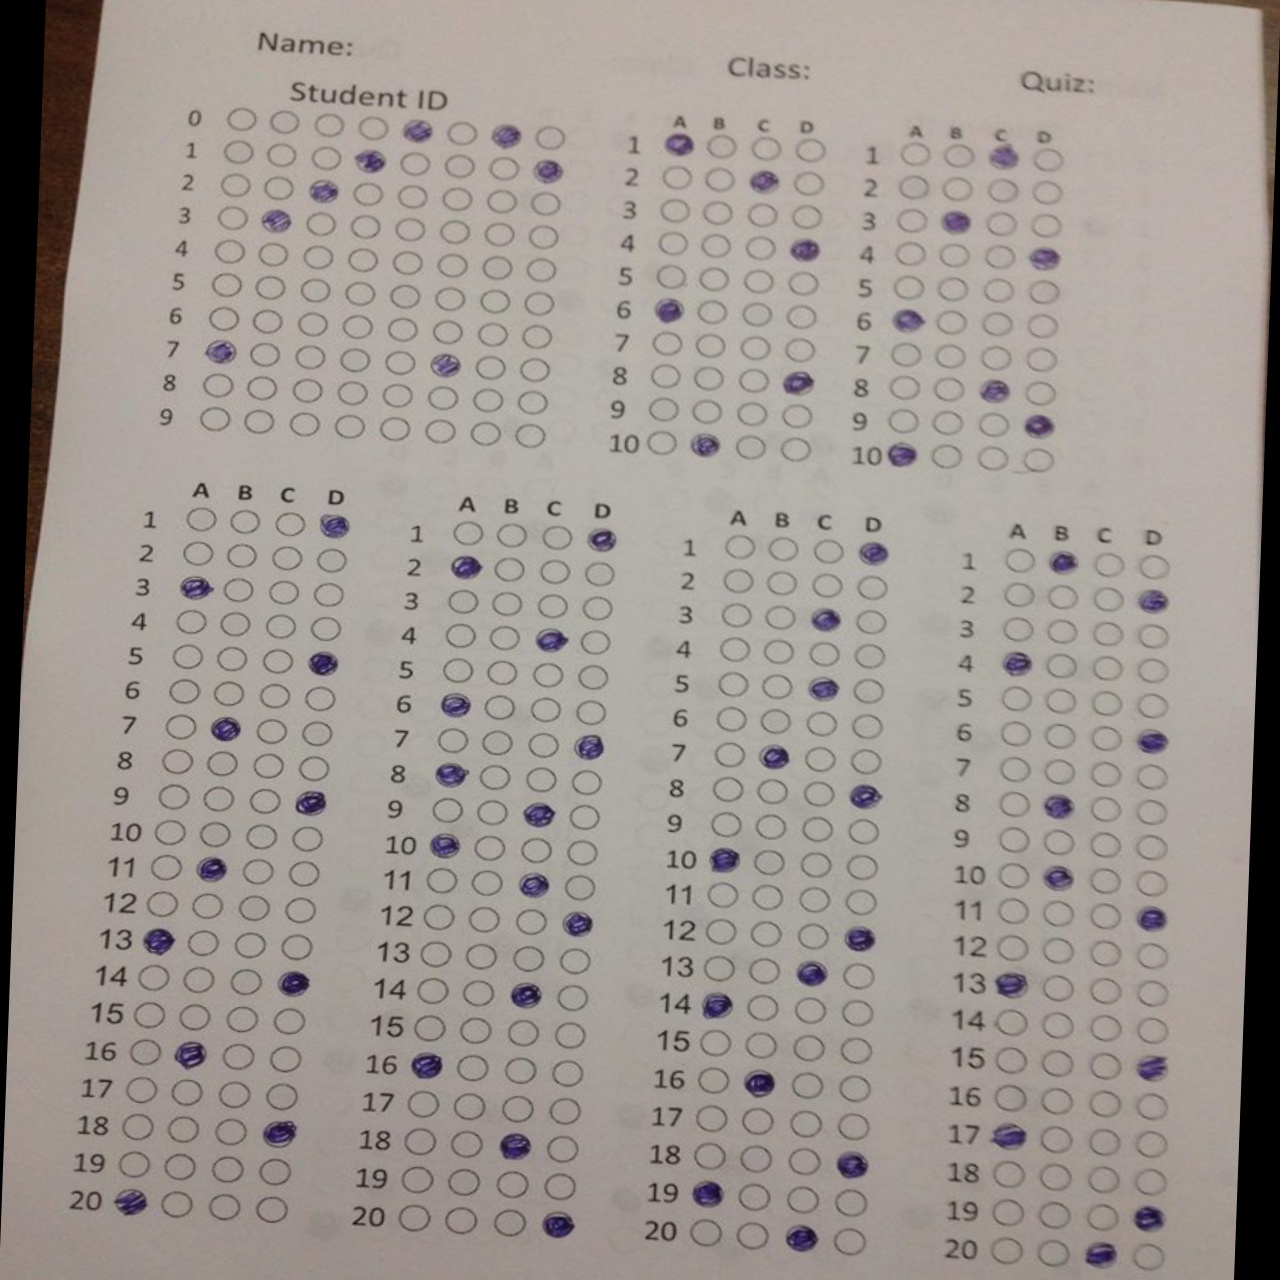not-c: (442, 1164, 485, 1199), (117, 1108, 159, 1143), (454, 1049, 493, 1085), (546, 1092, 587, 1128), (736, 1142, 777, 1177), (132, 960, 175, 994), (499, 1089, 537, 1126), (234, 891, 275, 925), (784, 1144, 825, 1178), (401, 1123, 440, 1158), (544, 1131, 583, 1166), (990, 1156, 1029, 1191), (263, 1080, 302, 1114), (212, 1115, 252, 1149), (501, 1054, 542, 1087), (253, 1192, 291, 1227), (842, 885, 879, 920), (257, 1155, 295, 1189), (442, 1201, 481, 1235), (450, 1090, 489, 1124), (835, 1108, 873, 1142), (179, 964, 219, 996), (270, 1005, 309, 1037), (493, 1167, 533, 1200), (690, 1138, 730, 1171), (1133, 689, 1173, 722), (992, 1006, 1032, 1039), (547, 1056, 588, 1088), (745, 918, 787, 949), (165, 1110, 202, 1145), (411, 1010, 448, 1046), (554, 979, 591, 1014), (130, 998, 168, 1032), (159, 1150, 197, 1184), (422, 862, 459, 896), (535, 588, 572, 622), (697, 1026, 735, 1060), (998, 751, 1035, 785), (527, 692, 566, 724), (753, 810, 791, 843), (1133, 940, 1172, 973), (216, 1077, 256, 1109), (733, 1220, 772, 1252), (716, 633, 756, 665), (749, 847, 790, 878), (415, 973, 450, 1008), (695, 1063, 731, 1097), (701, 951, 737, 985), (702, 914, 738, 948), (709, 772, 745, 806), (183, 926, 220, 959), (542, 1170, 579, 1203), (447, 1126, 484, 1159), (420, 900, 457, 933), (837, 1073, 874, 1105), (797, 849, 835, 881), (809, 570, 846, 602), (1089, 652, 1126, 685), (987, 1235, 1024, 1268), (219, 1041, 258, 1073), (123, 1074, 162, 1105), (166, 1075, 205, 1107), (799, 777, 838, 809), (761, 636, 799, 668), (721, 531, 760, 563), (1133, 654, 1172, 686), (1135, 1015, 1173, 1047), (522, 764, 561, 795), (692, 1103, 731, 1133), (990, 1083, 1030, 1114), (158, 1189, 195, 1221), (400, 1162, 436, 1194), (467, 903, 503, 935), (564, 835, 600, 867), (429, 794, 465, 826), (476, 761, 512, 794), (738, 1104, 775, 1137), (788, 1107, 824, 1139), (754, 774, 790, 806), (758, 704, 795, 737), (1088, 1088, 1124, 1121), (226, 966, 264, 998), (491, 1207, 529, 1239), (513, 905, 551, 937), (518, 833, 556, 865), (524, 728, 561, 760), (735, 1182, 772, 1213), (708, 809, 745, 840), (811, 535, 849, 566), (1043, 651, 1081, 682), (1087, 901, 1124, 933), (504, 1017, 543, 1048), (687, 1217, 726, 1247), (703, 879, 742, 910), (798, 813, 837, 844), (849, 712, 887, 742), (143, 888, 183, 918), (1087, 760, 1126, 789), (282, 894, 318, 927), (207, 1190, 243, 1223), (406, 1088, 441, 1121), (1037, 1237, 1073, 1269), (475, 796, 511, 828), (568, 765, 605, 797), (481, 692, 517, 723), (578, 626, 614, 658), (833, 1187, 870, 1219), (176, 1002, 213, 1033), (396, 1201, 434, 1232), (747, 955, 784, 986), (719, 599, 756, 629), (1043, 581, 1081, 612), (1040, 1009, 1077, 1040), (285, 859, 324, 888), (715, 669, 754, 699), (734, 365, 772, 394), (787, 1183, 821, 1216), (574, 660, 610, 692), (833, 1225, 869, 1257), (1136, 551, 1171, 583), (999, 682, 1034, 714), (1037, 1160, 1073, 1192), (199, 783, 236, 813), (489, 588, 525, 619), (745, 993, 782, 1023), (1002, 546, 1039, 577), (1090, 550, 1126, 580), (1090, 584, 1126, 614), (1043, 756, 1080, 787), (1135, 796, 1171, 826), (1040, 898, 1076, 928), (791, 169, 828, 199), (530, 659, 567, 688), (579, 593, 617, 622), (789, 1070, 826, 1099), (1039, 1085, 1076, 1115), (1133, 870, 1172, 898), (856, 571, 888, 604), (553, 1019, 587, 1050), (839, 1034, 873, 1065), (847, 815, 881, 846), (435, 251, 470, 281), (159, 747, 195, 777), (557, 945, 592, 975), (573, 697, 608, 728), (792, 1033, 828, 1063), (840, 960, 876, 990), (796, 921, 831, 952), (750, 881, 785, 912), (761, 672, 796, 702), (1043, 685, 1078, 715), (996, 896, 1032, 926), (990, 1198, 1026, 1228), (1039, 1199, 1074, 1230), (250, 751, 286, 781), (792, 995, 829, 1024), (851, 642, 887, 672), (852, 607, 888, 636), (763, 568, 799, 598), (764, 535, 801, 564), (1002, 614, 1039, 644), (1088, 866, 1124, 896), (1088, 1051, 1124, 1081), (309, 583, 347, 611), (241, 823, 279, 851), (762, 602, 799, 631), (1041, 937, 1078, 965), (1087, 939, 1124, 967), (1021, 447, 1058, 475), (302, 241, 335, 273), (210, 1155, 243, 1186), (447, 585, 479, 617), (175, 606, 209, 636), (248, 788, 282, 818), (225, 1003, 259, 1034), (563, 872, 597, 903), (567, 801, 601, 831), (488, 622, 522, 653), (840, 998, 874, 1028), (1090, 688, 1124, 719), (1089, 1126, 1123, 1157), (1088, 1164, 1122, 1194), (302, 685, 338, 714), (147, 852, 182, 881), (278, 932, 313, 961), (435, 726, 470, 755), (849, 747, 884, 776), (998, 719, 1033, 748), (998, 825, 1033, 855), (1088, 976, 1123, 1006), (471, 352, 508, 380), (423, 417, 459, 445), (299, 721, 335, 749), (156, 784, 192, 812), (462, 978, 498, 1006), (468, 869, 504, 897), (1090, 620, 1126, 648), (995, 933, 1032, 961), (850, 678, 887, 704), (117, 1149, 150, 1179), (481, 728, 513, 758), (1135, 1128, 1167, 1158), (779, 435, 812, 465), (245, 372, 279, 401), (198, 819, 232, 849), (581, 559, 615, 588), (744, 1030, 778, 1060), (798, 885, 832, 914), (845, 852, 879, 881), (803, 744, 837, 774), (722, 566, 756, 595), (1043, 826, 1077, 856), (1135, 1091, 1169, 1121), (1039, 1125, 1073, 1155), (1133, 1167, 1167, 1197), (738, 332, 772, 361), (735, 433, 769, 462), (513, 422, 549, 450), (169, 679, 204, 707), (128, 1037, 163, 1065), (458, 1015, 493, 1043), (1001, 581, 1036, 610), (1088, 724, 1123, 753), (1135, 762, 1170, 790), (697, 232, 733, 260), (785, 302, 821, 331), (892, 240, 927, 268), (418, 940, 455, 967), (1087, 832, 1123, 859), (1039, 1049, 1075, 1076), (1023, 345, 1060, 372), (512, 944, 544, 974), (539, 554, 571, 585), (985, 241, 1016, 272), (189, 891, 222, 920), (1042, 974, 1075, 1003), (1088, 1013, 1121, 1042), (788, 268, 821, 298), (651, 327, 683, 356), (781, 402, 813, 431), (520, 356, 554, 384), (270, 546, 304, 574), (444, 621, 478, 649), (496, 520, 530, 549), (450, 519, 484, 547), (713, 740, 747, 768), (1044, 617, 1078, 645), (1084, 1201, 1118, 1230), (745, 200, 779, 229), (790, 204, 824, 232), (1032, 145, 1065, 173), (939, 173, 973, 202), (938, 275, 972, 304), (888, 340, 922, 368), (438, 218, 474, 245), (346, 247, 381, 274), (205, 306, 240, 333), (336, 380, 372, 407), (222, 576, 257, 602), (308, 617, 343, 644), (204, 750, 239, 777), (297, 756, 332, 783), (268, 1046, 304, 1073), (463, 942, 498, 969), (656, 197, 692, 224), (896, 173, 931, 200), (986, 210, 1021, 237), (298, 277, 334, 302), (260, 648, 297, 674), (163, 715, 199, 741), (234, 930, 265, 960), (212, 268, 244, 298), (256, 717, 287, 747), (1133, 1240, 1165, 1269), (259, 240, 292, 268), (182, 538, 215, 566), (264, 614, 297, 642), (291, 826, 324, 855), (472, 833, 505, 862), (441, 656, 474, 685), (493, 554, 526, 583), (806, 709, 839, 737), (1137, 622, 1170, 651), (938, 241, 971, 270), (978, 445, 1010, 474), (309, 144, 343, 171), (297, 309, 331, 336), (198, 406, 232, 433), (331, 413, 365, 440), (172, 644, 206, 670), (259, 681, 293, 708), (154, 818, 188, 845), (485, 659, 519, 686), (998, 790, 1032, 817), (998, 862, 1032, 888), (995, 1046, 1029, 1073), (659, 164, 693, 191), (781, 335, 815, 362), (937, 311, 971, 338), (1024, 380, 1058, 407), (386, 284, 421, 309), (516, 392, 551, 417), (644, 431, 679, 457), (933, 375, 968, 401), (978, 413, 1013, 438), (931, 443, 966, 469), (223, 105, 259, 130), (314, 547, 350, 572), (217, 203, 247, 232), (888, 406, 919, 435), (809, 640, 840, 668), (1136, 833, 1167, 862), (483, 220, 516, 247), (523, 288, 556, 315), (433, 318, 465, 345), (290, 411, 322, 438), (218, 610, 251, 636), (216, 645, 248, 672), (1044, 722, 1077, 749), (704, 166, 737, 193), (743, 234, 776, 261), (1028, 278, 1061, 305), (311, 111, 345, 137), (488, 155, 522, 181), (263, 175, 297, 200), (396, 183, 430, 209), (343, 282, 377, 308), (200, 373, 234, 399), (213, 680, 247, 706), (794, 136, 828, 162), (700, 200, 734, 226), (741, 271, 775, 297), (693, 332, 727, 358), (1032, 179, 1065, 205), (383, 350, 418, 375), (647, 363, 682, 388), (735, 401, 770, 425), (535, 123, 564, 152), (295, 342, 325, 372), (527, 256, 558, 284), (470, 420, 501, 448), (445, 118, 477, 145), (486, 188, 518, 215), (519, 324, 551, 350), (274, 511, 306, 538), (715, 704, 747, 731), (751, 135, 783, 162), (692, 365, 723, 392), (1030, 211, 1062, 238), (933, 345, 969, 368), (339, 348, 372, 374), (230, 509, 263, 535), (542, 524, 574, 550), (1136, 980, 1169, 1006), (659, 230, 692, 256), (699, 267, 731, 293), (358, 115, 392, 139), (250, 308, 284, 333), (248, 341, 282, 366), (382, 384, 416, 409), (379, 418, 413, 443), (397, 216, 427, 244), (213, 239, 248, 263), (899, 139, 930, 166), (222, 139, 253, 165), (478, 288, 510, 314), (428, 384, 459, 410), (474, 386, 505, 411), (1089, 796, 1121, 822), (399, 151, 431, 176), (648, 399, 681, 423), (896, 207, 928, 232), (1026, 314, 1060, 338), (244, 408, 272, 436), (342, 314, 372, 341), (353, 215, 383, 240), (394, 250, 424, 275), (294, 376, 325, 402), (268, 581, 299, 607), (692, 399, 722, 424), (988, 177, 1019, 203), (888, 375, 919, 401), (483, 256, 515, 280), (241, 859, 273, 884), (942, 142, 974, 166), (892, 274, 924, 299), (932, 411, 964, 436), (444, 156, 477, 179), (981, 346, 1014, 369), (707, 134, 736, 159), (696, 300, 726, 326), (256, 275, 286, 300), (389, 316, 420, 341), (477, 321, 508, 346), (226, 544, 257, 568), (740, 300, 770, 325), (982, 312, 1014, 335), (186, 508, 219, 530), (271, 110, 300, 135), (532, 193, 561, 218), (983, 277, 1013, 301), (434, 286, 464, 309), (268, 143, 297, 168), (354, 181, 382, 205), (220, 172, 250, 196), (305, 215, 336, 236), (531, 225, 559, 248), (656, 265, 686, 287), (445, 186, 474, 209)
taken-c: (832, 1146, 874, 1182), (779, 1220, 821, 1253), (495, 1131, 536, 1163), (1131, 1053, 1173, 1083), (205, 712, 244, 744), (312, 510, 352, 542), (840, 922, 881, 953), (173, 573, 215, 604), (137, 926, 178, 956), (397, 113, 435, 145), (690, 1177, 728, 1210), (982, 139, 1021, 171), (425, 831, 464, 863), (806, 605, 845, 636), (853, 537, 892, 568), (990, 971, 1030, 1001), (169, 1040, 209, 1070), (191, 855, 232, 884), (486, 118, 523, 151), (738, 1065, 775, 1098), (990, 1121, 1028, 1152), (539, 1208, 577, 1240), (436, 692, 475, 722), (292, 787, 331, 817), (258, 1121, 298, 1150), (109, 1187, 149, 1217), (1133, 588, 1175, 617), (1039, 794, 1080, 822), (515, 872, 552, 903), (883, 438, 921, 468), (406, 1051, 444, 1081), (304, 648, 342, 678), (888, 307, 928, 335), (1133, 729, 1173, 757), (306, 175, 341, 206), (1046, 545, 1081, 577), (974, 375, 1010, 406), (1040, 864, 1077, 893), (703, 844, 741, 873), (559, 908, 597, 938), (273, 969, 311, 999), (428, 760, 467, 788), (506, 980, 540, 1012), (349, 145, 387, 173), (791, 956, 829, 985), (1019, 413, 1057, 440), (779, 367, 816, 395), (1024, 244, 1061, 272), (999, 649, 1035, 678), (1131, 1204, 1167, 1232), (202, 338, 239, 365), (520, 802, 558, 829), (1085, 1240, 1117, 1272), (258, 204, 292, 233), (570, 731, 604, 761), (806, 673, 840, 702), (785, 234, 821, 263), (652, 294, 685, 324), (938, 205, 971, 234), (747, 166, 781, 195), (699, 989, 733, 1017), (1133, 904, 1169, 931), (846, 783, 883, 809), (445, 554, 485, 578), (529, 156, 563, 183), (425, 350, 459, 377), (663, 130, 694, 159), (757, 744, 790, 771), (689, 431, 723, 457), (535, 628, 570, 652), (588, 527, 618, 556)
